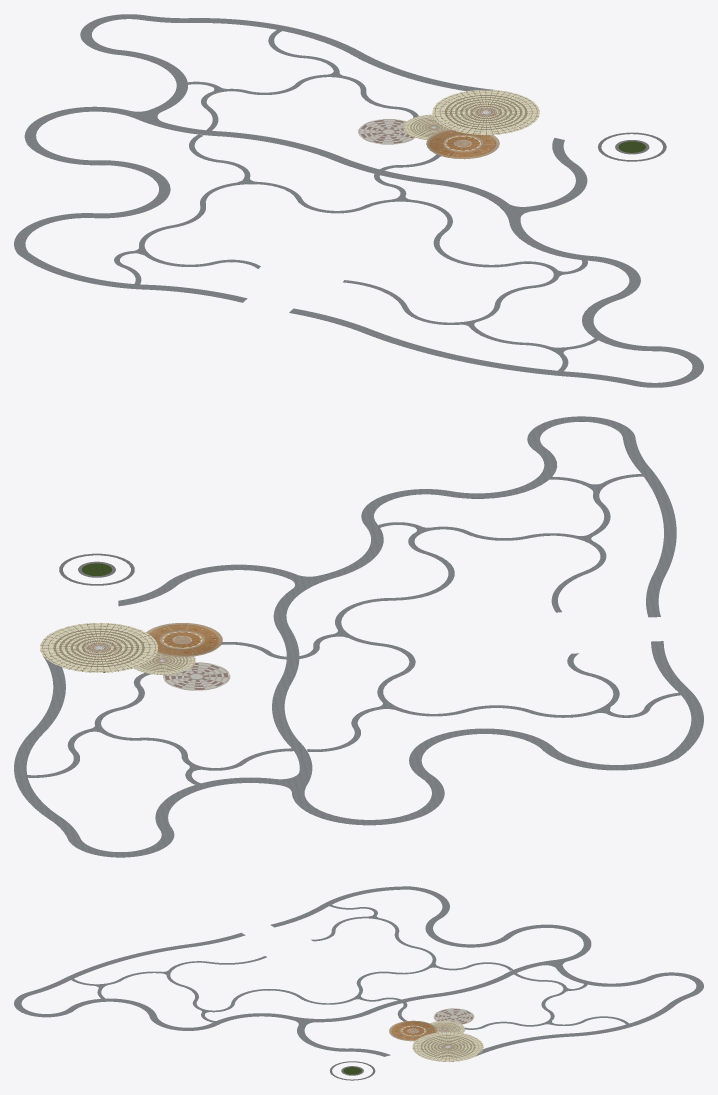
File: gongyuan2.gltf
3 views of the same model, one above another, from view 1: azimuth 30°, elevation 25°; view 2: azimuth 150°, elevation 25°; view 3: azimuth 270°, elevation 25° (orthographic). The views are drawn at different scales.
Parts seen in each view (by area): view 1: Obj3d66-602692-6-603, Obj3d66-602692-7-222, Obj3d66-602692-182-817, Obj3d66-602692-180-814, Obj3d66-602692-181-210, Obj3d66-602692-179-446, Obj3d66-602692-174-613; view 2: Obj3d66-602692-6-603, Obj3d66-602692-7-222, Obj3d66-602692-182-817, Obj3d66-602692-180-814, Obj3d66-602692-181-210, Obj3d66-602692-179-446, Obj3d66-602692-174-613; view 3: Obj3d66-602692-6-603, Obj3d66-602692-7-222, Obj3d66-602692-182-817, Obj3d66-602692-180-814, Obj3d66-602692-181-210, Obj3d66-602692-179-446.
Part boxes in pixels (x1,y1,x2,y2): Obj3d66-602692-6-603: (14, 14, 703, 387); Obj3d66-602692-7-222: (114, 30, 598, 371); Obj3d66-602692-182-817: (432, 89, 539, 134); Obj3d66-602692-180-814: (426, 129, 499, 159); Obj3d66-602692-181-210: (358, 119, 414, 144); Obj3d66-602692-179-446: (403, 114, 449, 139); Obj3d66-602692-174-613: (598, 132, 666, 161); Obj3d66-602692-6-603: (14, 416, 703, 857); Obj3d66-602692-7-222: (27, 474, 680, 784); Obj3d66-602692-182-817: (40, 623, 158, 672); Obj3d66-602692-180-814: (146, 623, 222, 656); Obj3d66-602692-181-210: (163, 662, 230, 690); Obj3d66-602692-179-446: (134, 653, 195, 674); Obj3d66-602692-174-613: (59, 553, 134, 585); Obj3d66-602692-6-603: (14, 886, 703, 1056); Obj3d66-602692-7-222: (71, 905, 628, 1029); Obj3d66-602692-182-817: (412, 1032, 483, 1061); Obj3d66-602692-180-814: (389, 1020, 437, 1041); Obj3d66-602692-181-210: (433, 1008, 474, 1024); Obj3d66-602692-179-446: (430, 1020, 464, 1033).
Size of the model in its own units: 1128 by 0.0936 by 1695.
8 materials, 7 textured.
